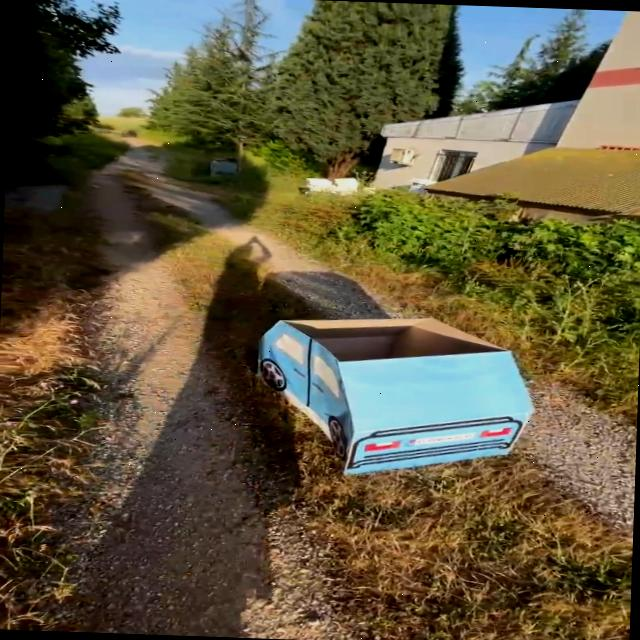blue_car: (207, 290, 563, 494)
